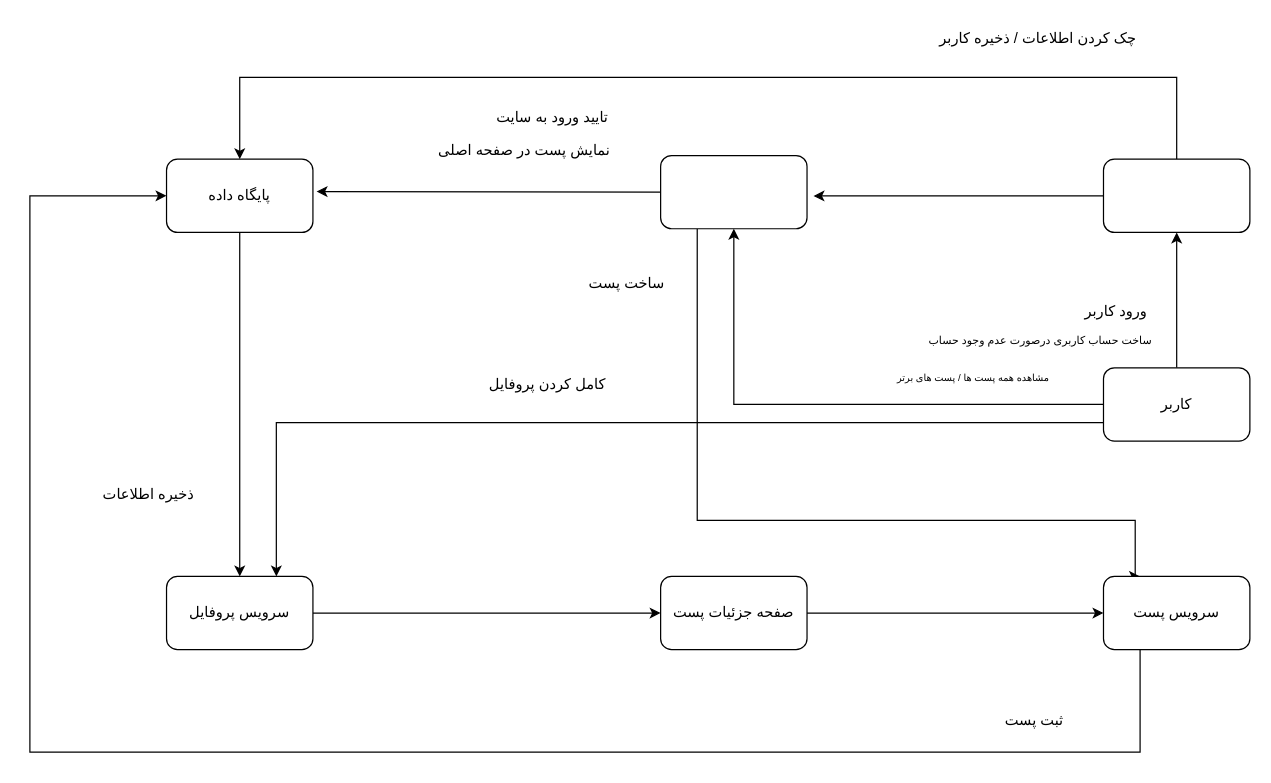
Image size: 1271x783. Some labels were removed from this diagram. The box of each missing label's shape, as (x1, y1, x2, y2) in pixels:
سرویس احراز هویت: (1102, 158, 1250, 232)
وبسایت: (659, 154, 807, 229)
